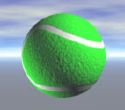tennis ball: (21, 13, 106, 98)
